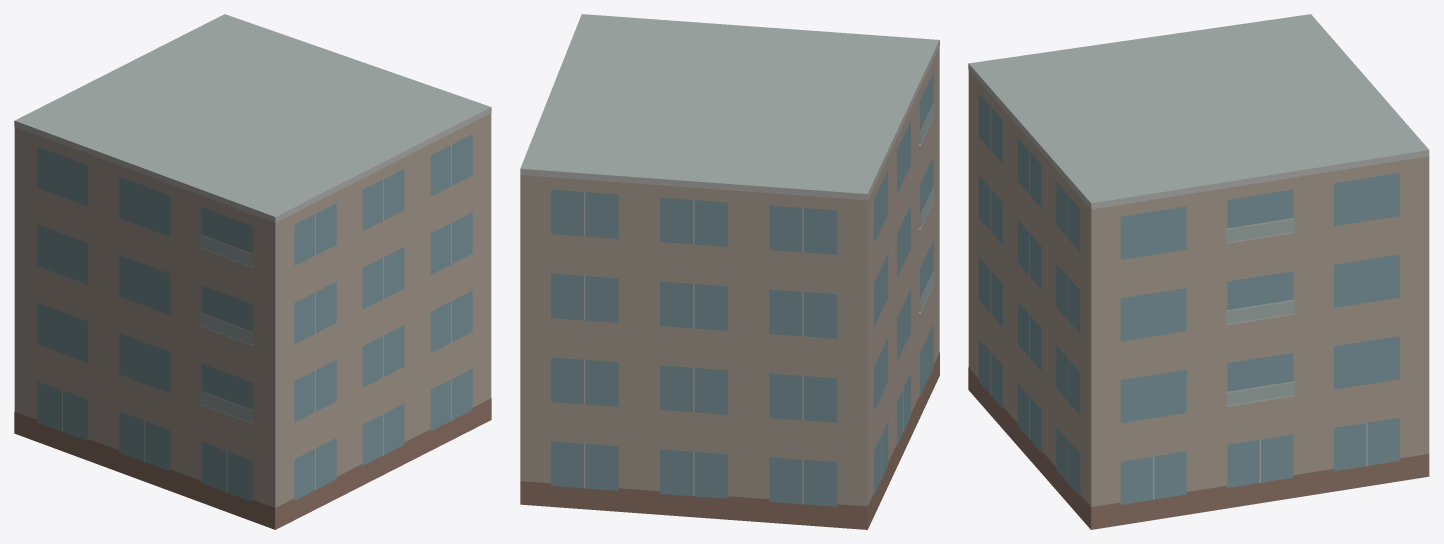
File: survey-upis-32867738.glb
3 renders of one model, left to right at view 1: azimuth 30°, elevation 25°; view 2: azimuth 150°, elevation 25°; view 3: azimuth 270°, elevation 25°, orthographic. The views are drawn at different scales.
Visible parts, largest first — view 1: survey-upis-32867738.tmp; view 2: survey-upis-32867738.tmp; view 3: survey-upis-32867738.tmp.
Part boxes in pixels (box(x1,y1,x2,y2)): survey-upis-32867738.tmp: box(14, 14, 491, 529); survey-upis-32867738.tmp: box(520, 14, 939, 529); survey-upis-32867738.tmp: box(968, 14, 1429, 529).
Size of the model in its own units: 16.05 by 12.9 by 16.51.
